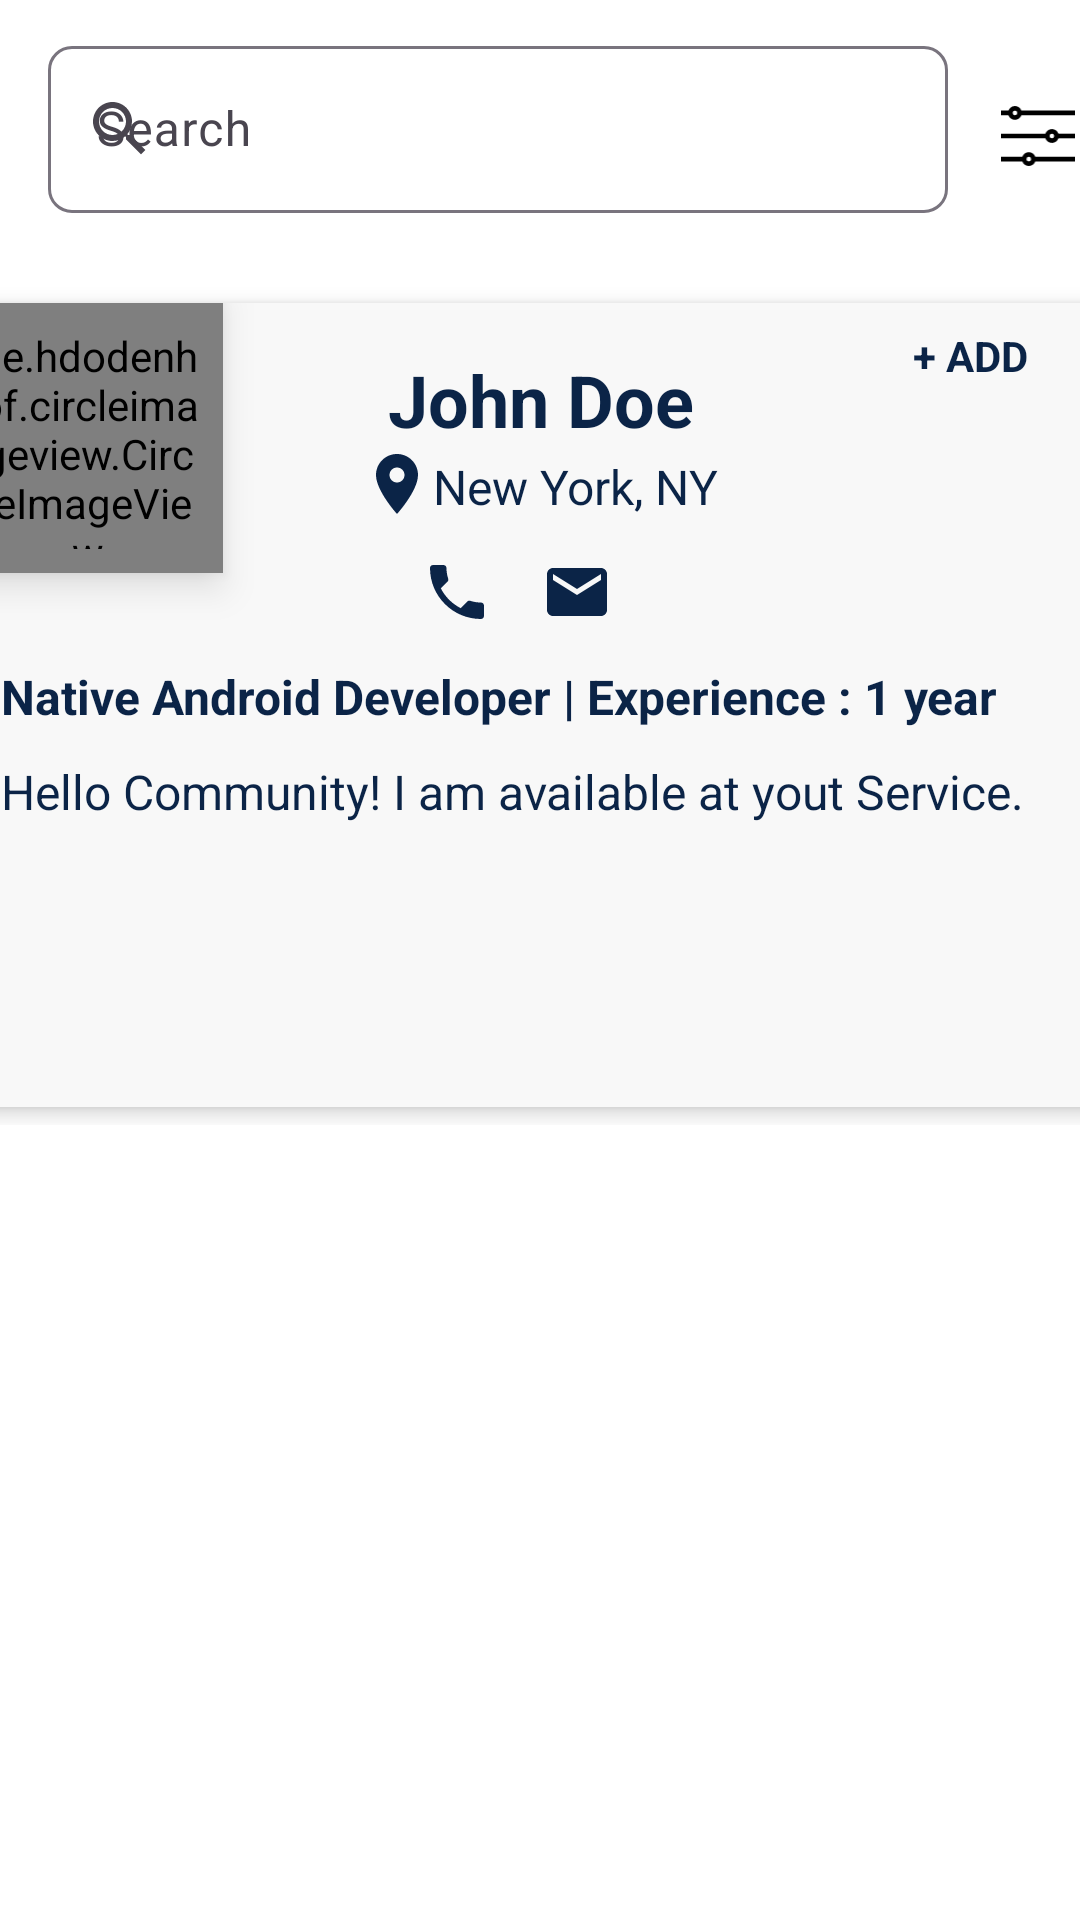

Icons on this 1080w x 1920h Android screen, each with its box as (x1, y1, x2, y2):
cusomize: (1001, 106, 1075, 166)
email: (547, 568, 607, 616)
location on: (376, 454, 418, 514)
phone: (430, 565, 484, 619)
